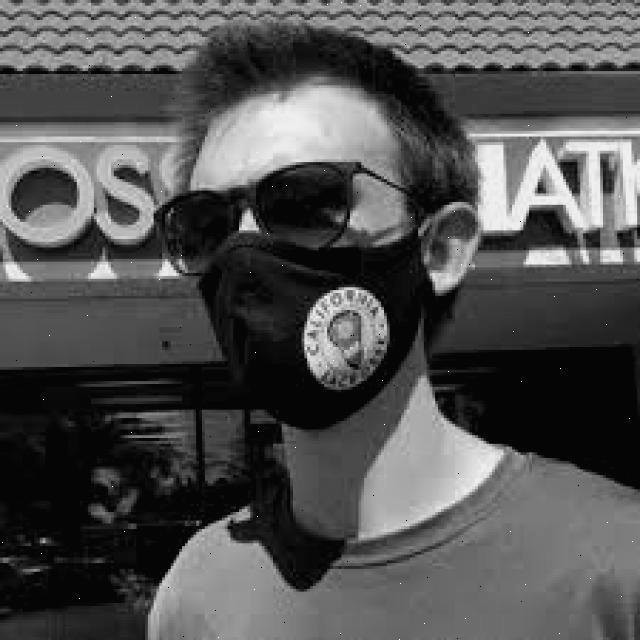fake: (194, 229, 438, 434), (151, 157, 377, 276)
